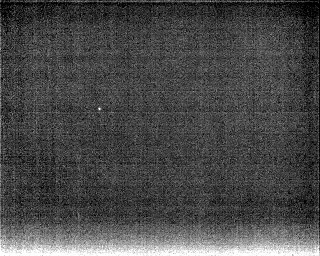BIRD: (95, 105, 103, 114)
